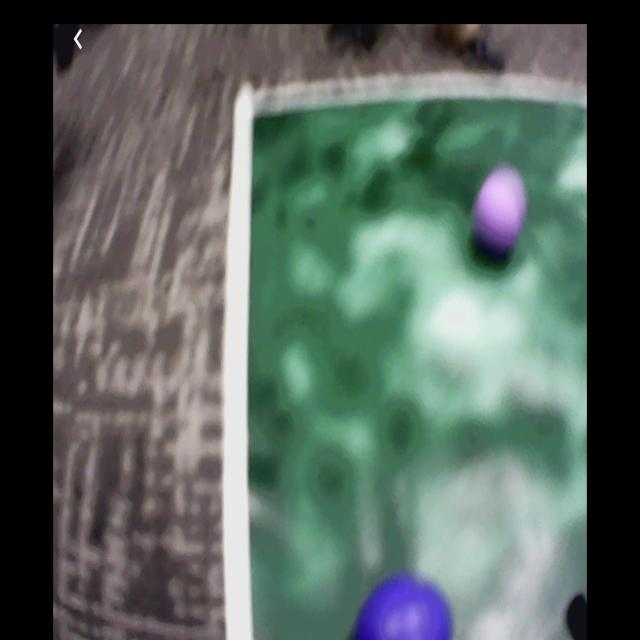ball: (356, 578, 454, 640), (474, 172, 525, 245)
